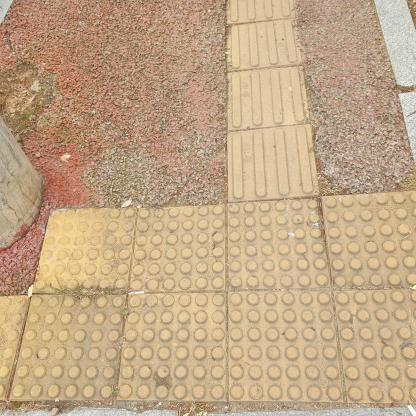podotacti: (0, 187, 415, 409), (216, 0, 331, 203)
